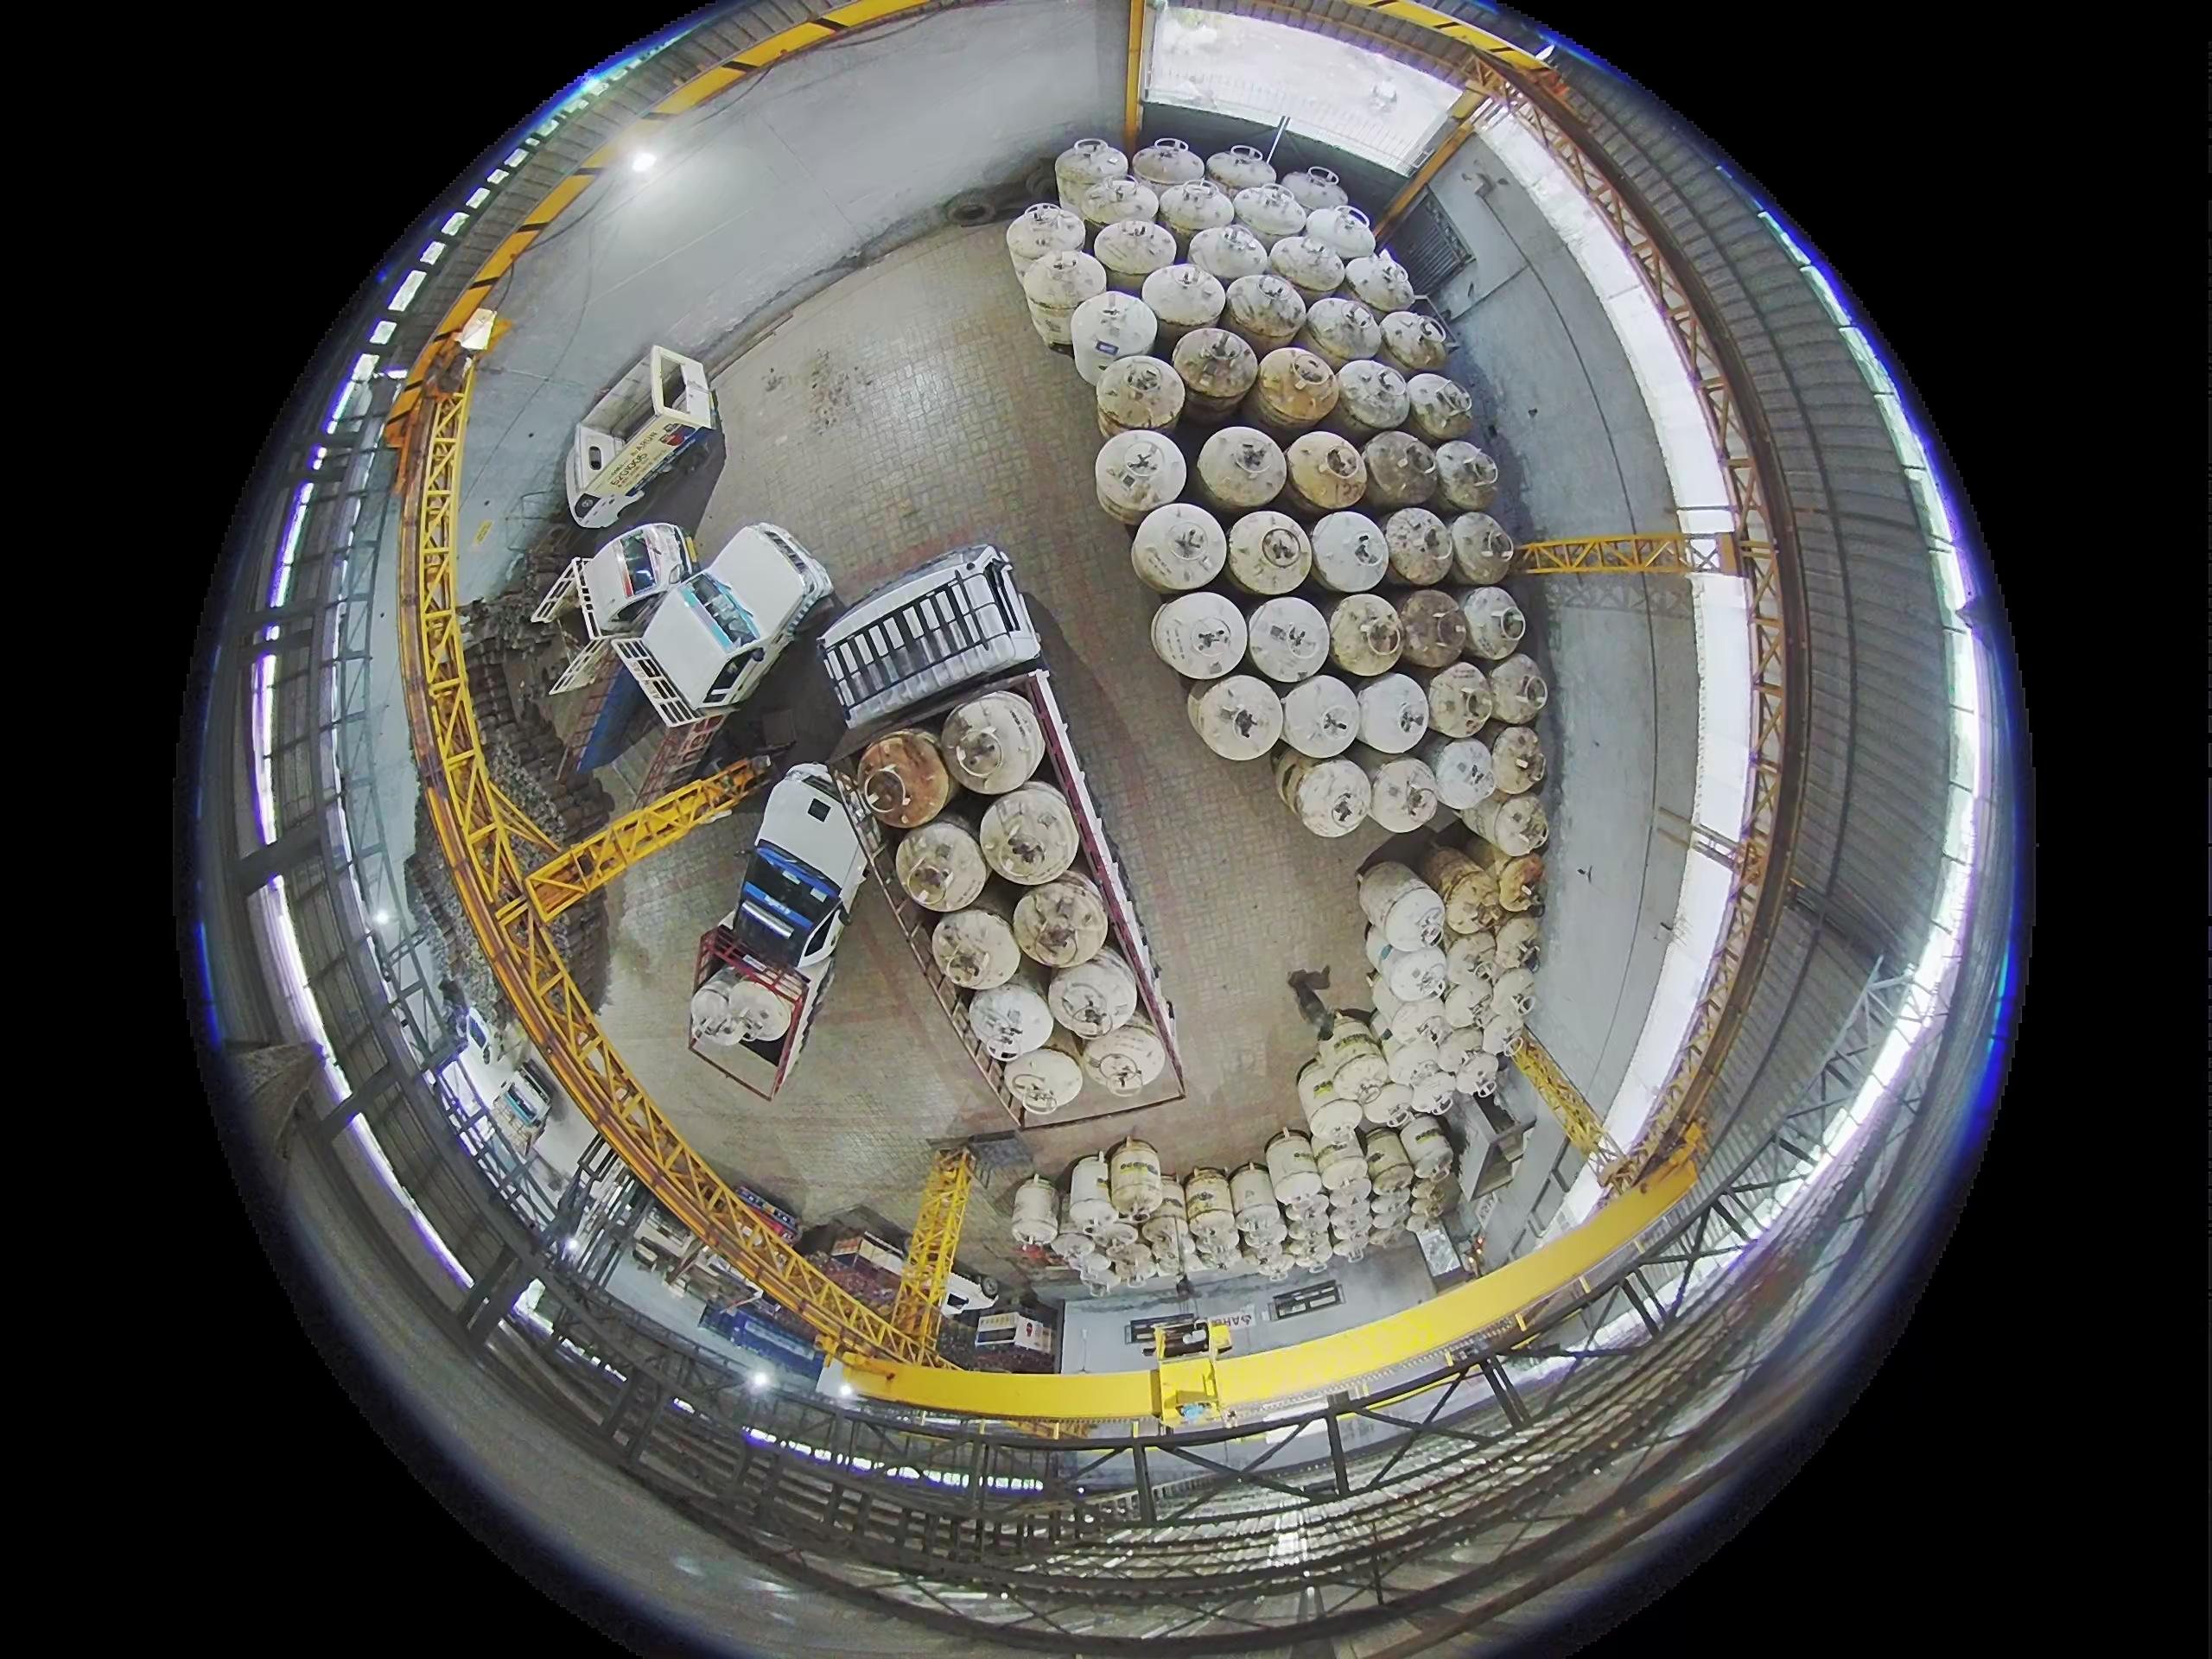cylinder: (1096, 429, 1186, 526)
truck: (803, 540, 1108, 1340), (543, 514, 829, 739), (813, 544, 1036, 732), (735, 746, 852, 1094), (563, 342, 721, 540), (432, 997, 563, 1154), (570, 519, 702, 640), (695, 1297, 827, 1387), (629, 1220, 759, 1307), (448, 1000, 502, 1073)
